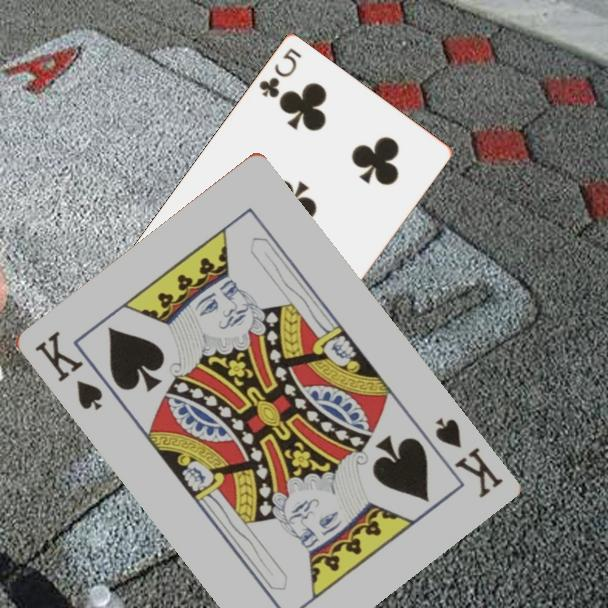c05: (255, 44, 304, 101)
s13: (430, 413, 506, 501), (30, 327, 105, 414)
